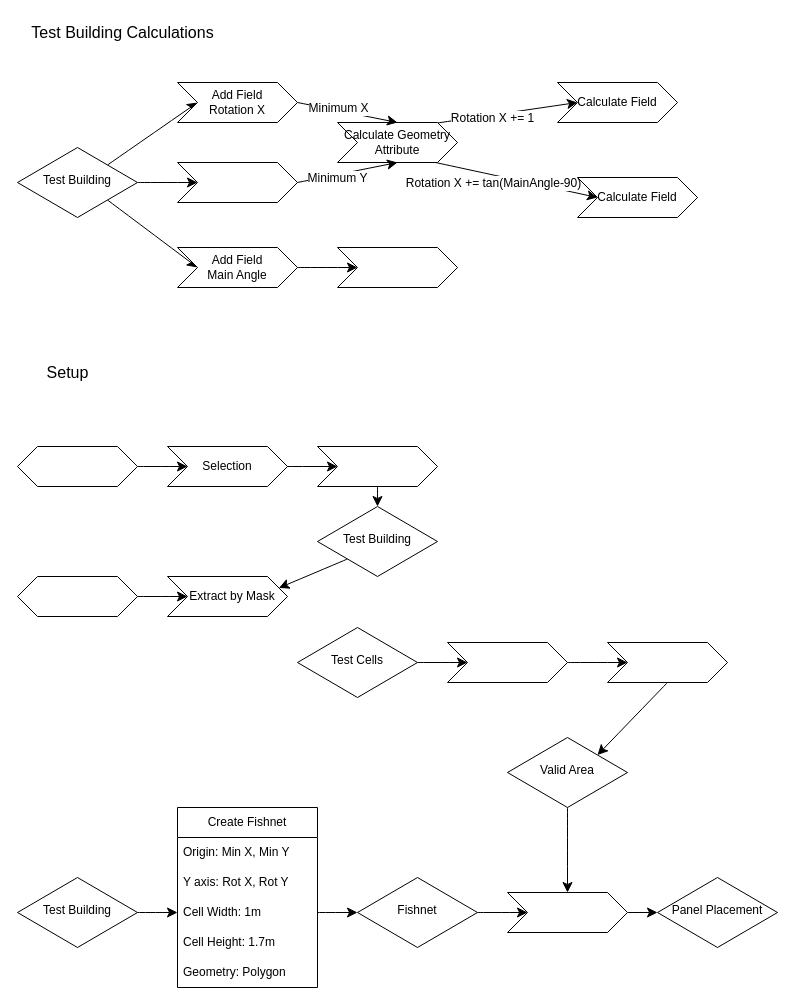
This 795x1005 diagram has some shape labels left out. The centre of each missing label's shape, as x and y in pixels:
"Add Field Rotation Y" belongs at (x=237, y=182).
"Calculate Polygon Main Angle" belongs at (x=397, y=267).
"Clip" belongs at (x=567, y=912).
"Extract Feature" belongs at (x=377, y=466).
"Raster to Polygon" belongs at (x=667, y=662).
"Reclassify single value" belongs at (x=507, y=662).
"Suitable Top Cells" belongs at (x=77, y=596).
"Top Buildings" belongs at (x=77, y=466).
